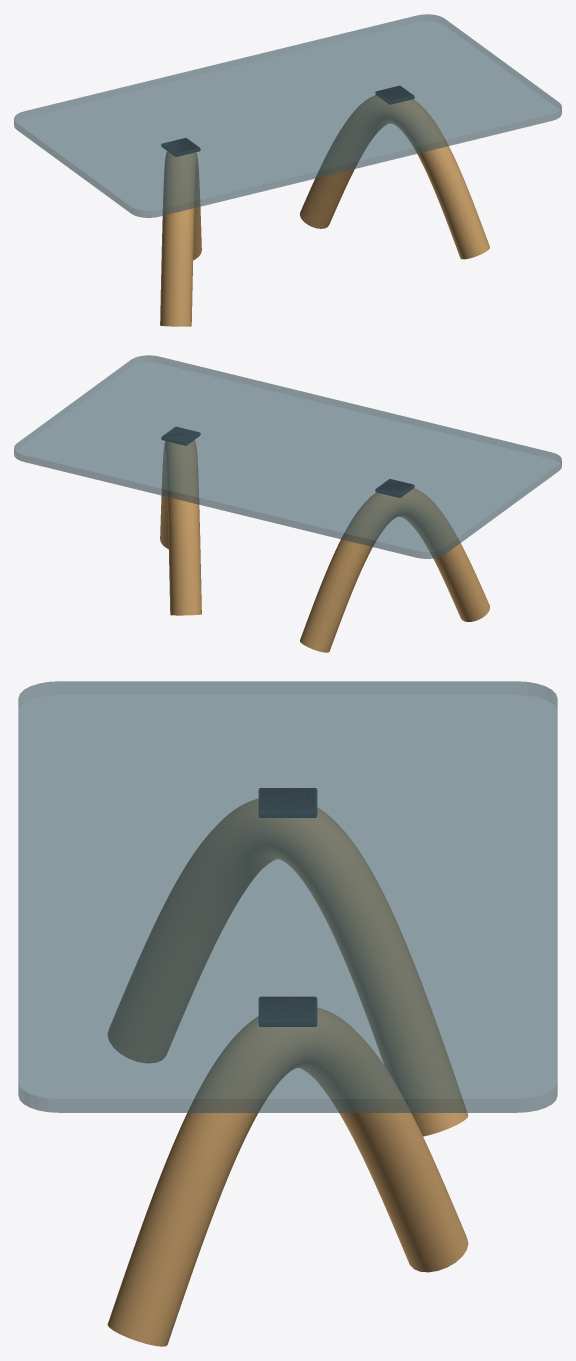
Rendered from designed-coffee-glass.glb.
3 renders of one model, top to bottom at view 1: azimuth 30°, elevation 25°; view 2: azimuth 150°, elevation 25°; view 3: azimuth 270°, elevation 25°, orthographic. The views are drawn at different scales.
Visible parts, largest first — view 1: catalog_surface_UVMap, catalog_surface_RealismUV; view 2: catalog_surface_UVMap, catalog_surface_RealismUV; view 3: catalog_surface_UVMap, catalog_surface_RealismUV.
Part boxes in pixels (x1=…): catalog_surface_UVMap: x1=14, y1=14, x2=561, y2=217; catalog_surface_RealismUV: x1=160, y1=85, x2=489, y2=326; catalog_surface_UVMap: x1=14, y1=355, x2=561, y2=558; catalog_surface_RealismUV: x1=160, y1=427, x2=489, y2=652; catalog_surface_UVMap: x1=18, y1=681, x2=557, y2=1112; catalog_surface_RealismUV: x1=107, y1=788, x2=468, y2=1346.
Size of the model in its own units: 1.1 by 0.38 by 0.6.
